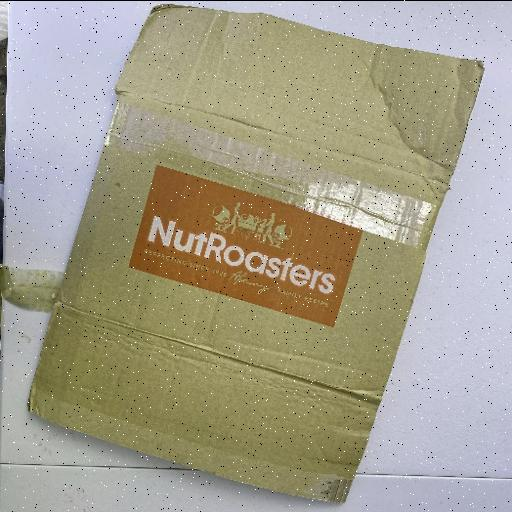Cardboard: (26, 4, 486, 504)
